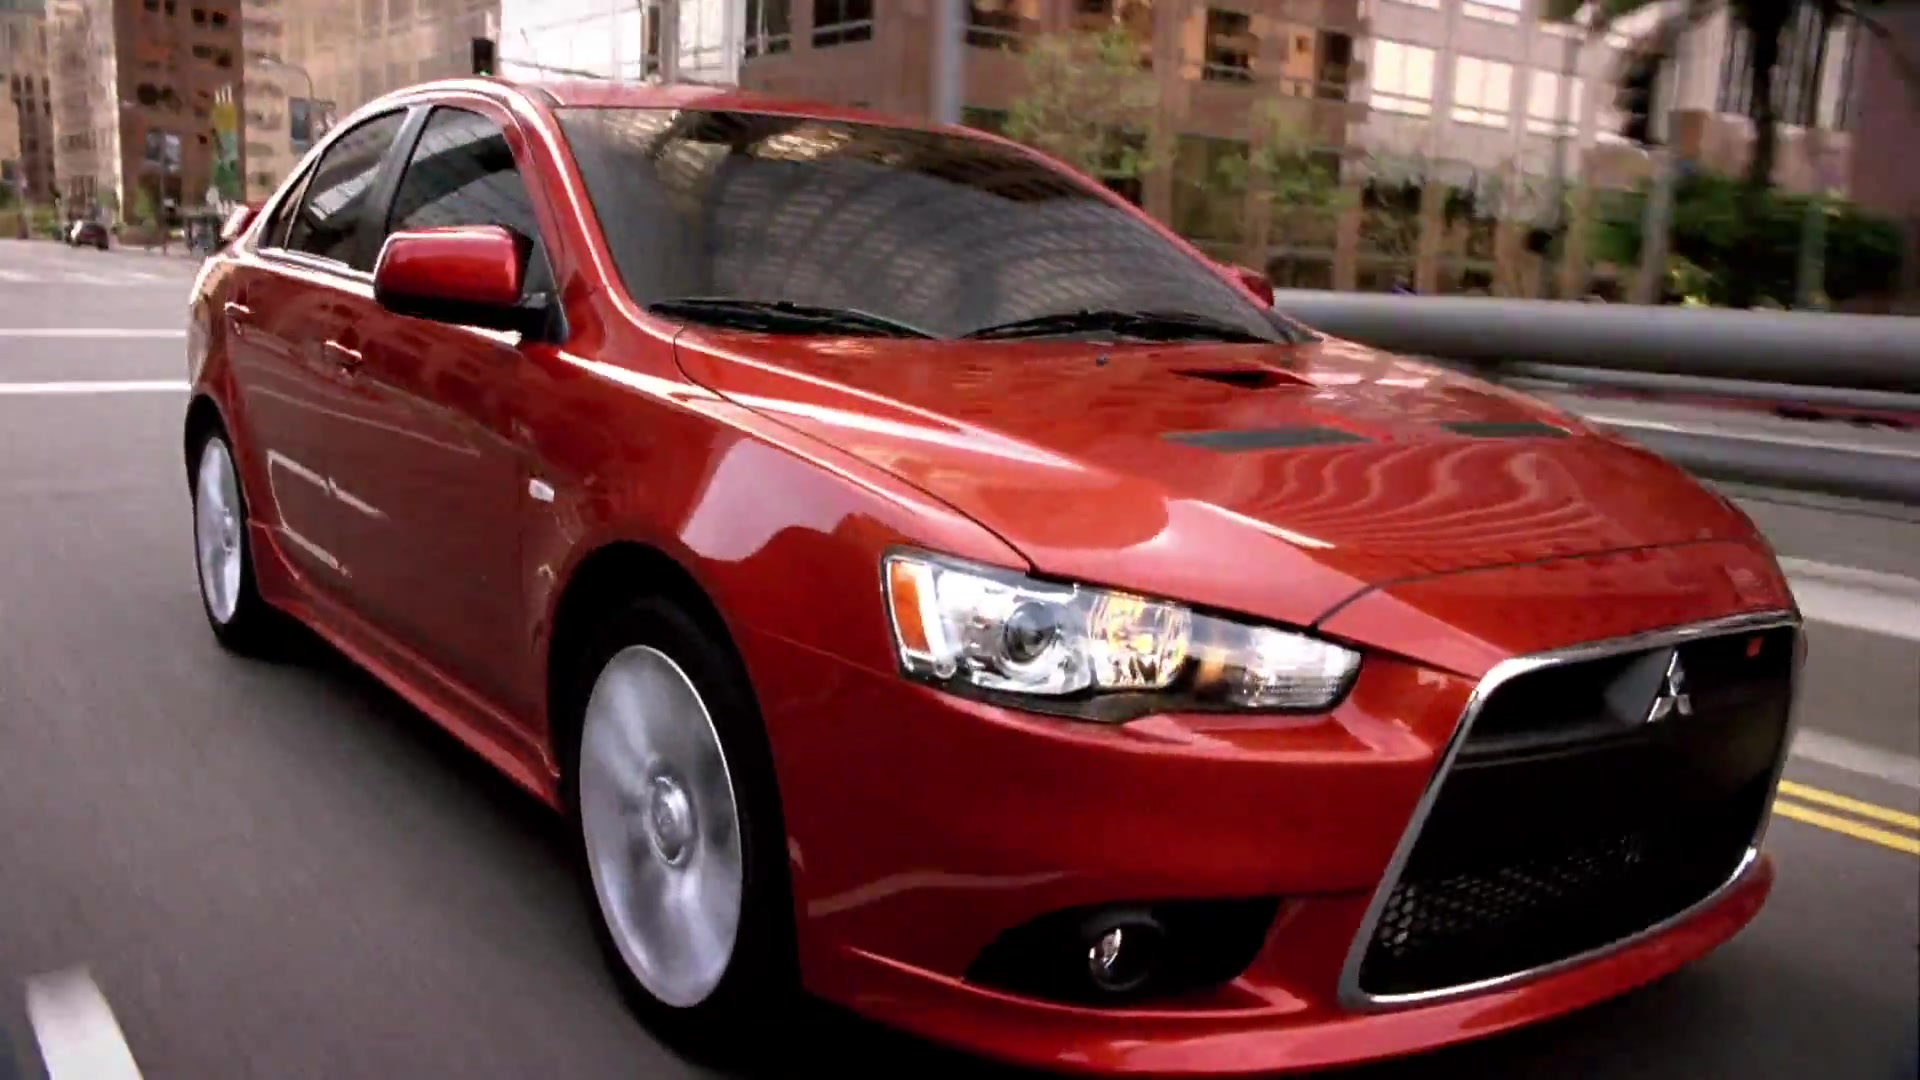car: (179, 79, 1815, 1080)
